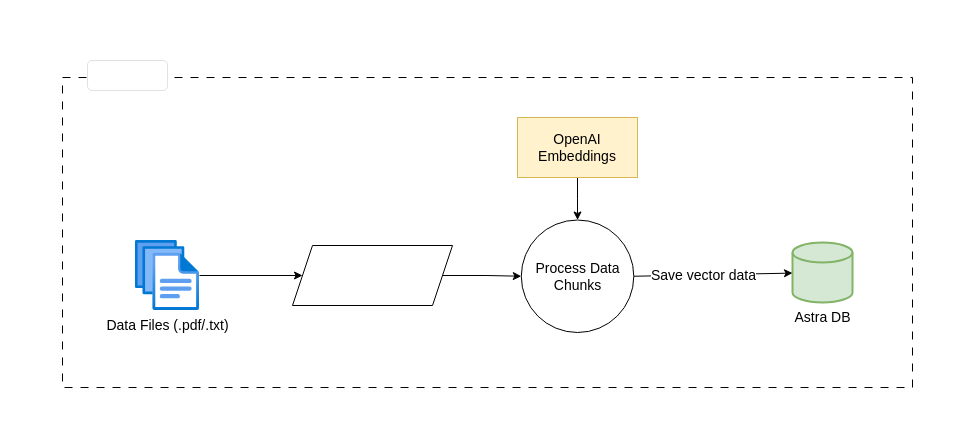
Some shapes in this 974 by 444 pixel diagram are drawn without their labels. The shapes that lost their labels are listed below. From the top down, each one's centre as x and y in pixels, then its label:
At (127,75): "Langflow".
At (372,275): "Parse and create text chunks".
